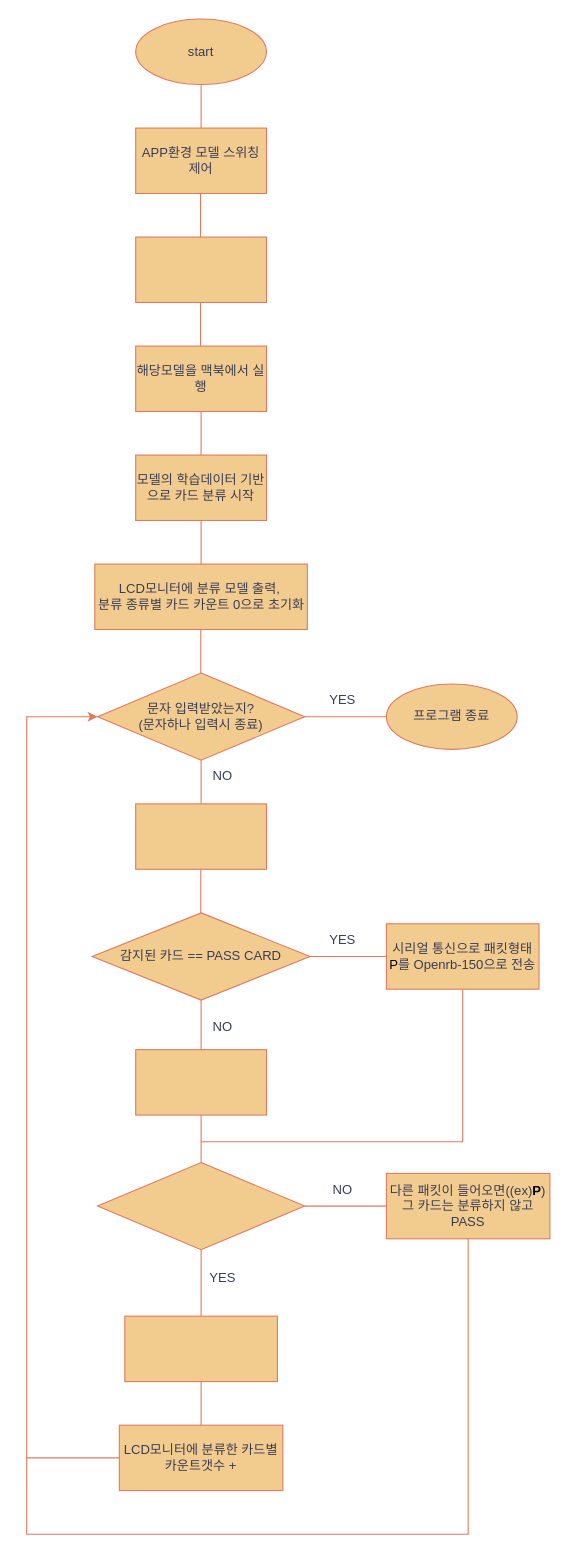
Some shapes in this 569 by 1554 pixel diagram are drawn without their labels. The shapes that lost their labels are listed below. From the top down, each one's centre as x and y in pixels, then its label:
At (x=201, y=269): "Load YOLOv8 model".
At (x=201, y=836): "웹캠 카드 실시간 감지".
At (x=201, y=1082): "그 카드 문양을 시리얼통신으로 패킷형태로 Openrb-150으로 전송".
At (x=200, y=1205): "받은 패킷 = 분류할 4가지 종류중 한개".
At (x=200, y=1348): "문자한개 패킷 받아서 모터제어로 카드 분류".
